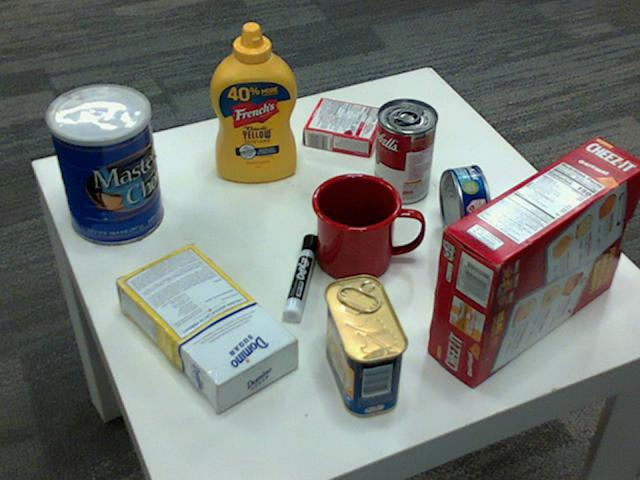cracker_box: (426, 135, 639, 385)
gelatin_box: (305, 97, 386, 155)
large_marker: (281, 235, 318, 327)
master_chef_can: (44, 84, 161, 245)
mug: (310, 170, 421, 279)
mustard_bottle: (210, 23, 296, 181)
potted_meat_can: (322, 275, 409, 416)
sugar_box: (112, 241, 295, 408)
tomato_soup_can: (373, 99, 437, 204)
tuna_fish_can: (438, 164, 490, 244)
